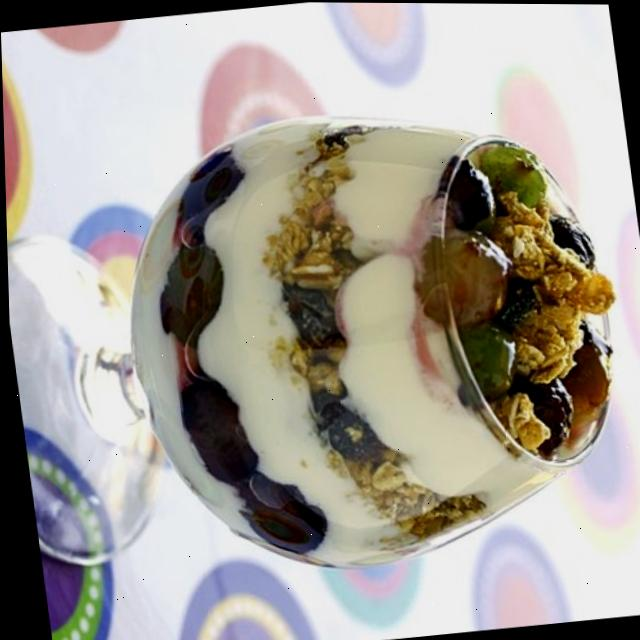蛋糕甜品: (1, 31, 640, 637)
